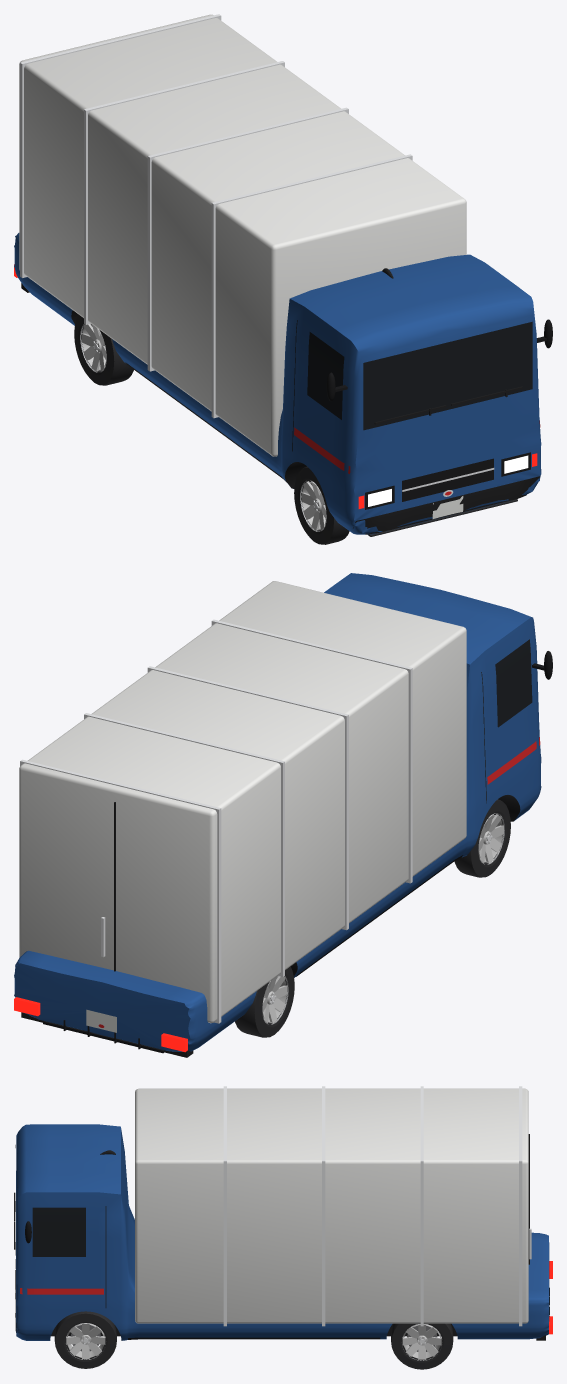
Rendered from tr_truck.glb.
3 views of the same model, one above another, from view 1: azimuth 30°, elevation 25°; view 2: azimuth 150°, elevation 25°; view 3: azimuth 270°, elevation 25° (orthographic). The views are drawn at different scales.
Visible parts, largest first — view 1: Body, Wheel_RR, Wheel_FR; view 2: Body, Wheel_RR, Wheel_FR; view 3: Body, Wheel_FL, Wheel_RL.
Boxes of the visible parts, x1,y1,x2,y2 form: Body: [14, 14, 552, 536]; Wheel_RR: [74, 314, 133, 385]; Wheel_FR: [294, 466, 349, 544]; Body: [14, 573, 552, 1057]; Wheel_RR: [235, 966, 294, 1037]; Wheel_FR: [454, 799, 510, 877]; Body: [14, 1086, 552, 1340]; Wheel_FL: [54, 1311, 116, 1368]; Wheel_RL: [391, 1323, 453, 1369].
Bounding box in the file's own units: 2.44 × 2.86 × 6.57.
